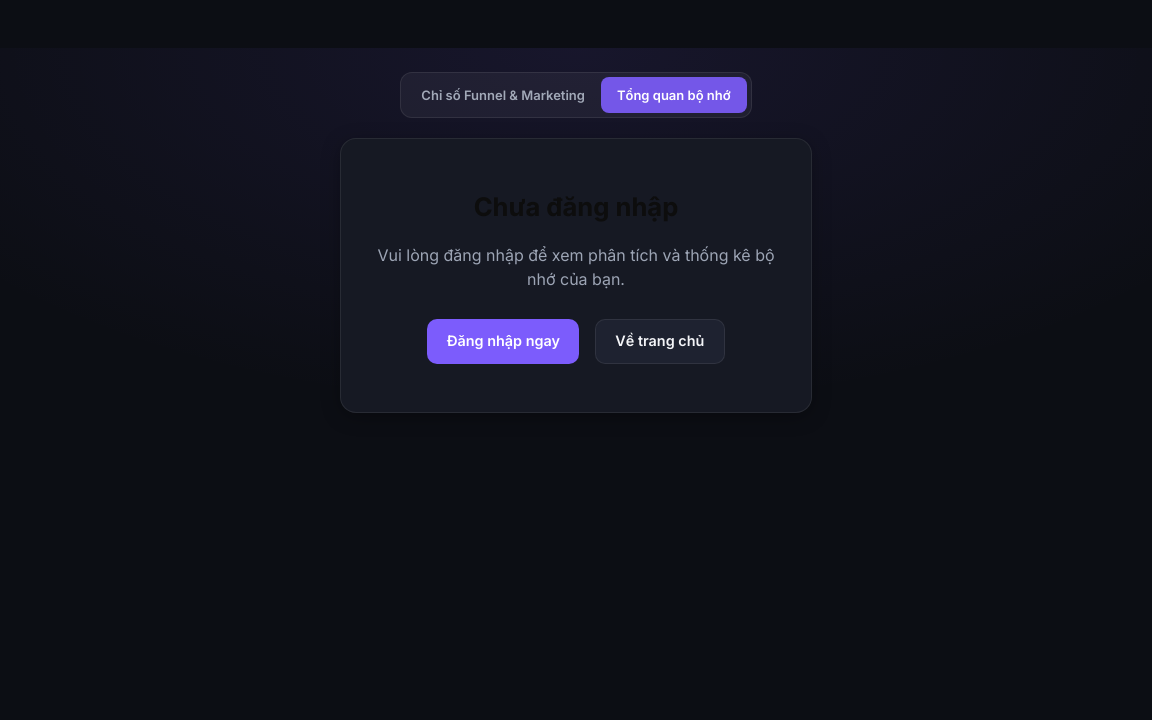
Test: AnalyticsPage › allows unauthenticated users to switch to Funnel & Marketing tab
Click tab "Chỉ số Funnel & Marketing"
Click the button with test id "unauth-tab-funnel" at coordinates (503, 95), box top-left (405, 77), bottom-right (601, 113)
(page scrolled)
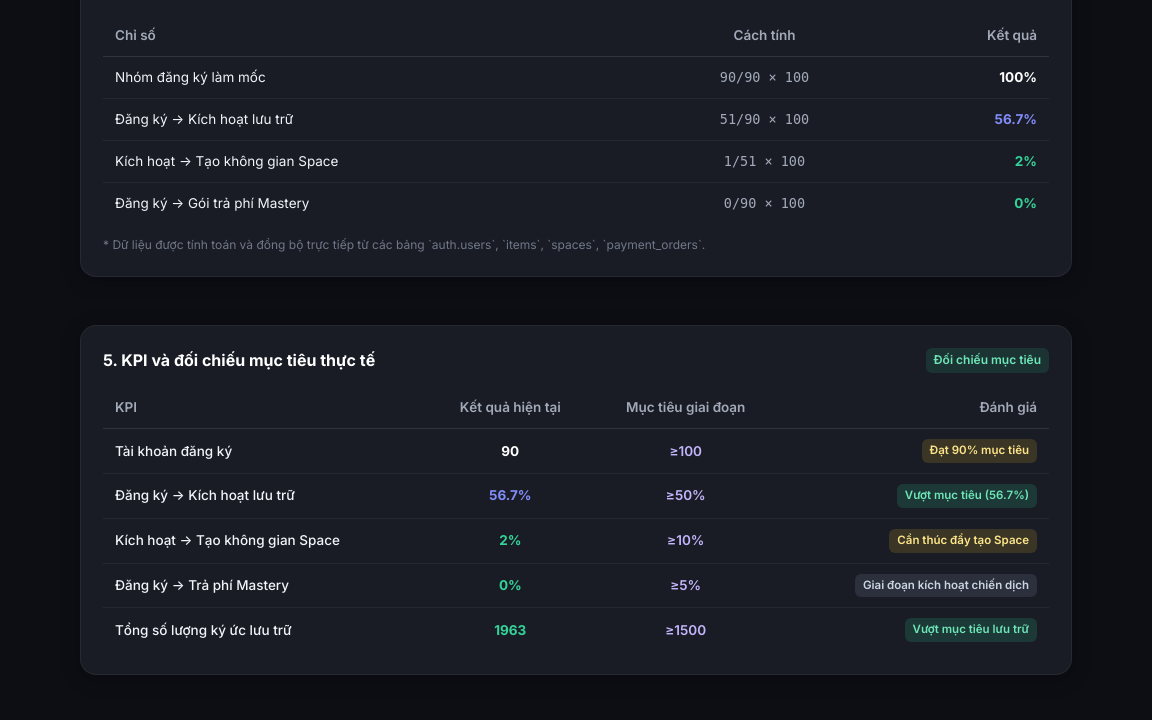
Expected: the heading "5. KPI và đối chiếu mục tiêu thực tế" is shown, top-left (103, 348), bottom-right (375, 373)
